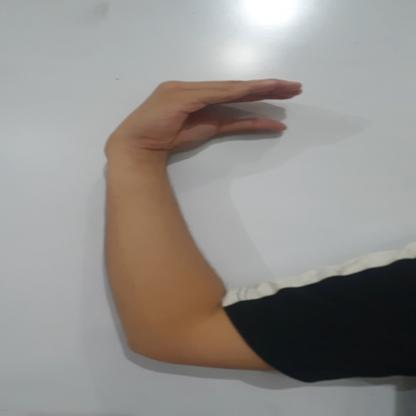Pagi: (98, 76, 307, 160)
